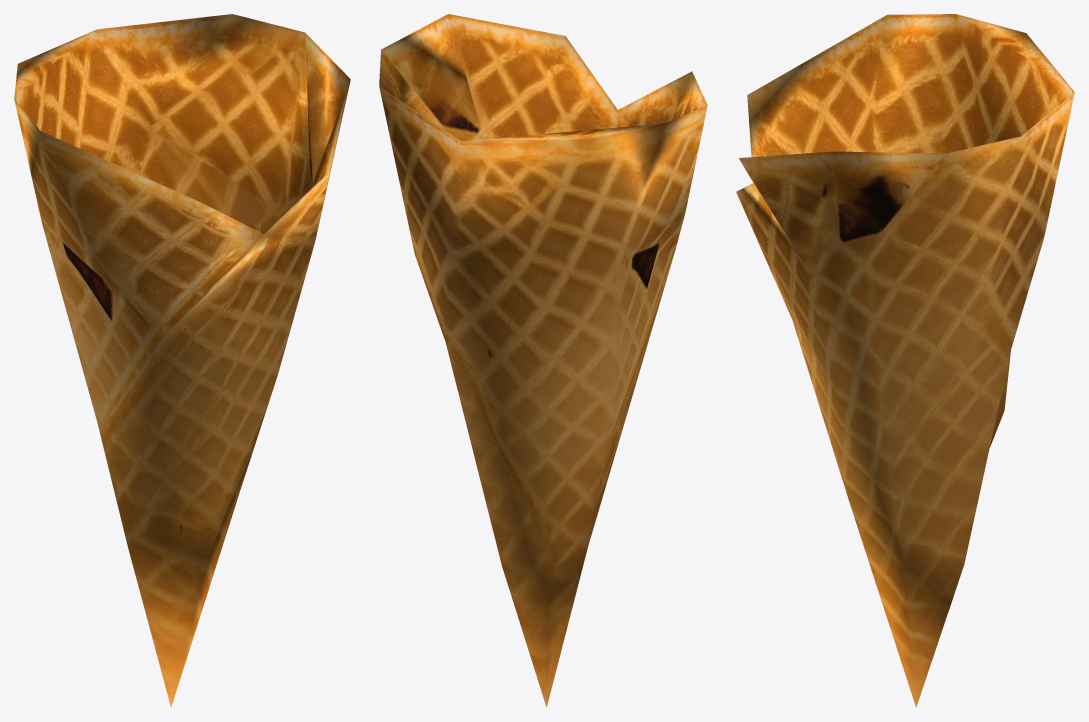
The model's file is Meshy_AI_Waffle_cone_0612095548_texture.fbx.
3 renders of one model, left to right at view 1: azimuth 30°, elevation 25°; view 2: azimuth 150°, elevation 25°; view 3: azimuth 270°, elevation 25°, orthographic.
Visible parts, largest first — view 1: Mesh_0; view 2: Mesh_0; view 3: Mesh_0.
Part boxes in pixels (x1,y1,x2,y2): Mesh_0: (14, 14, 350, 707); Mesh_0: (379, 14, 707, 707); Mesh_0: (736, 14, 1074, 707).
Size of the model in its own units: 93.26 by 190 by 93.06.
Materials: 1 (1 with a texture image).
